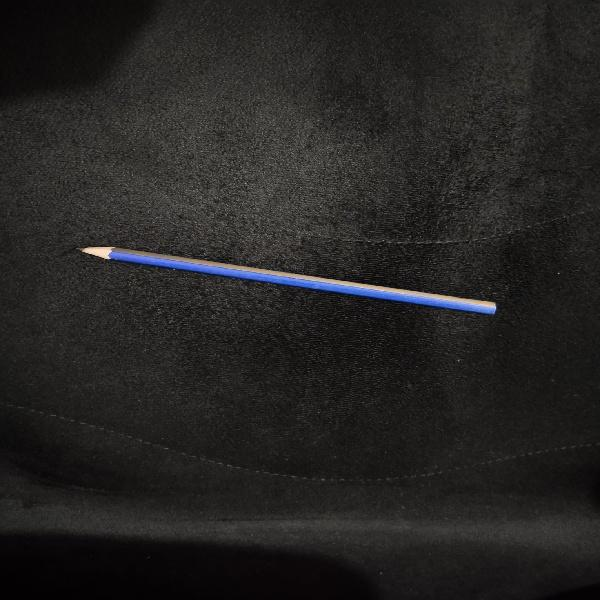pencil: (81, 247, 495, 313)
